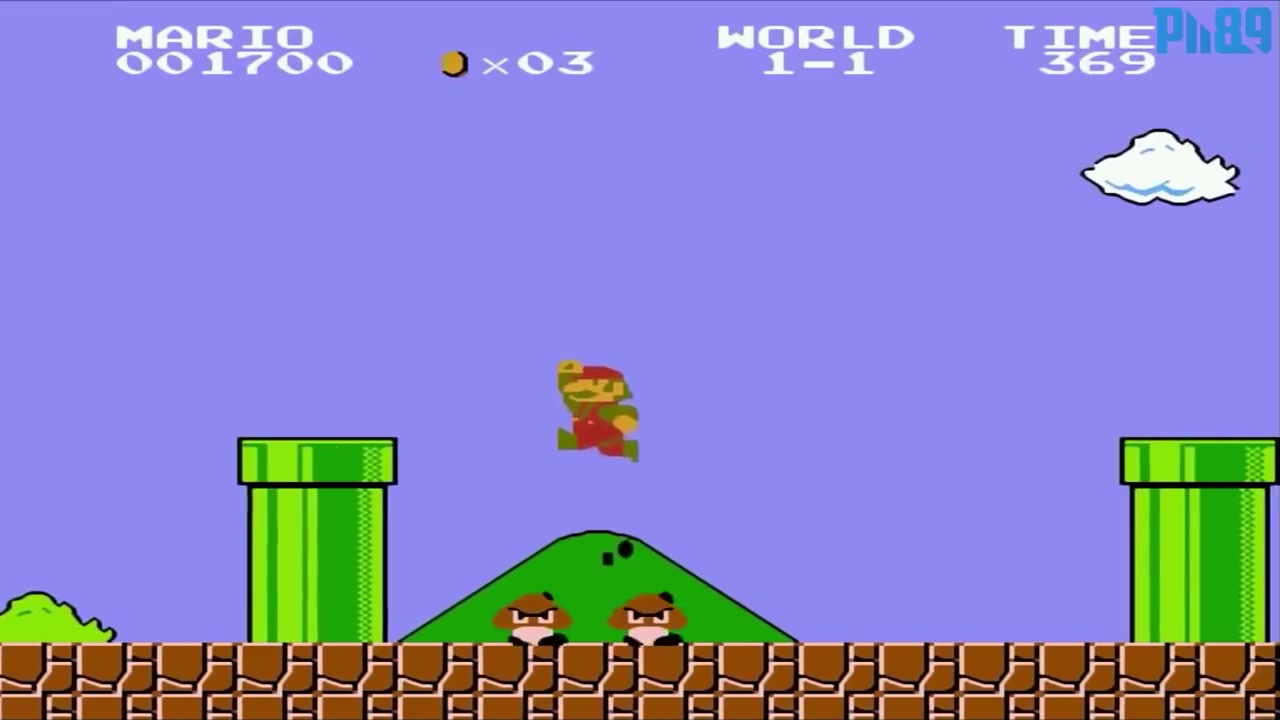mario: (543, 354, 657, 480)
